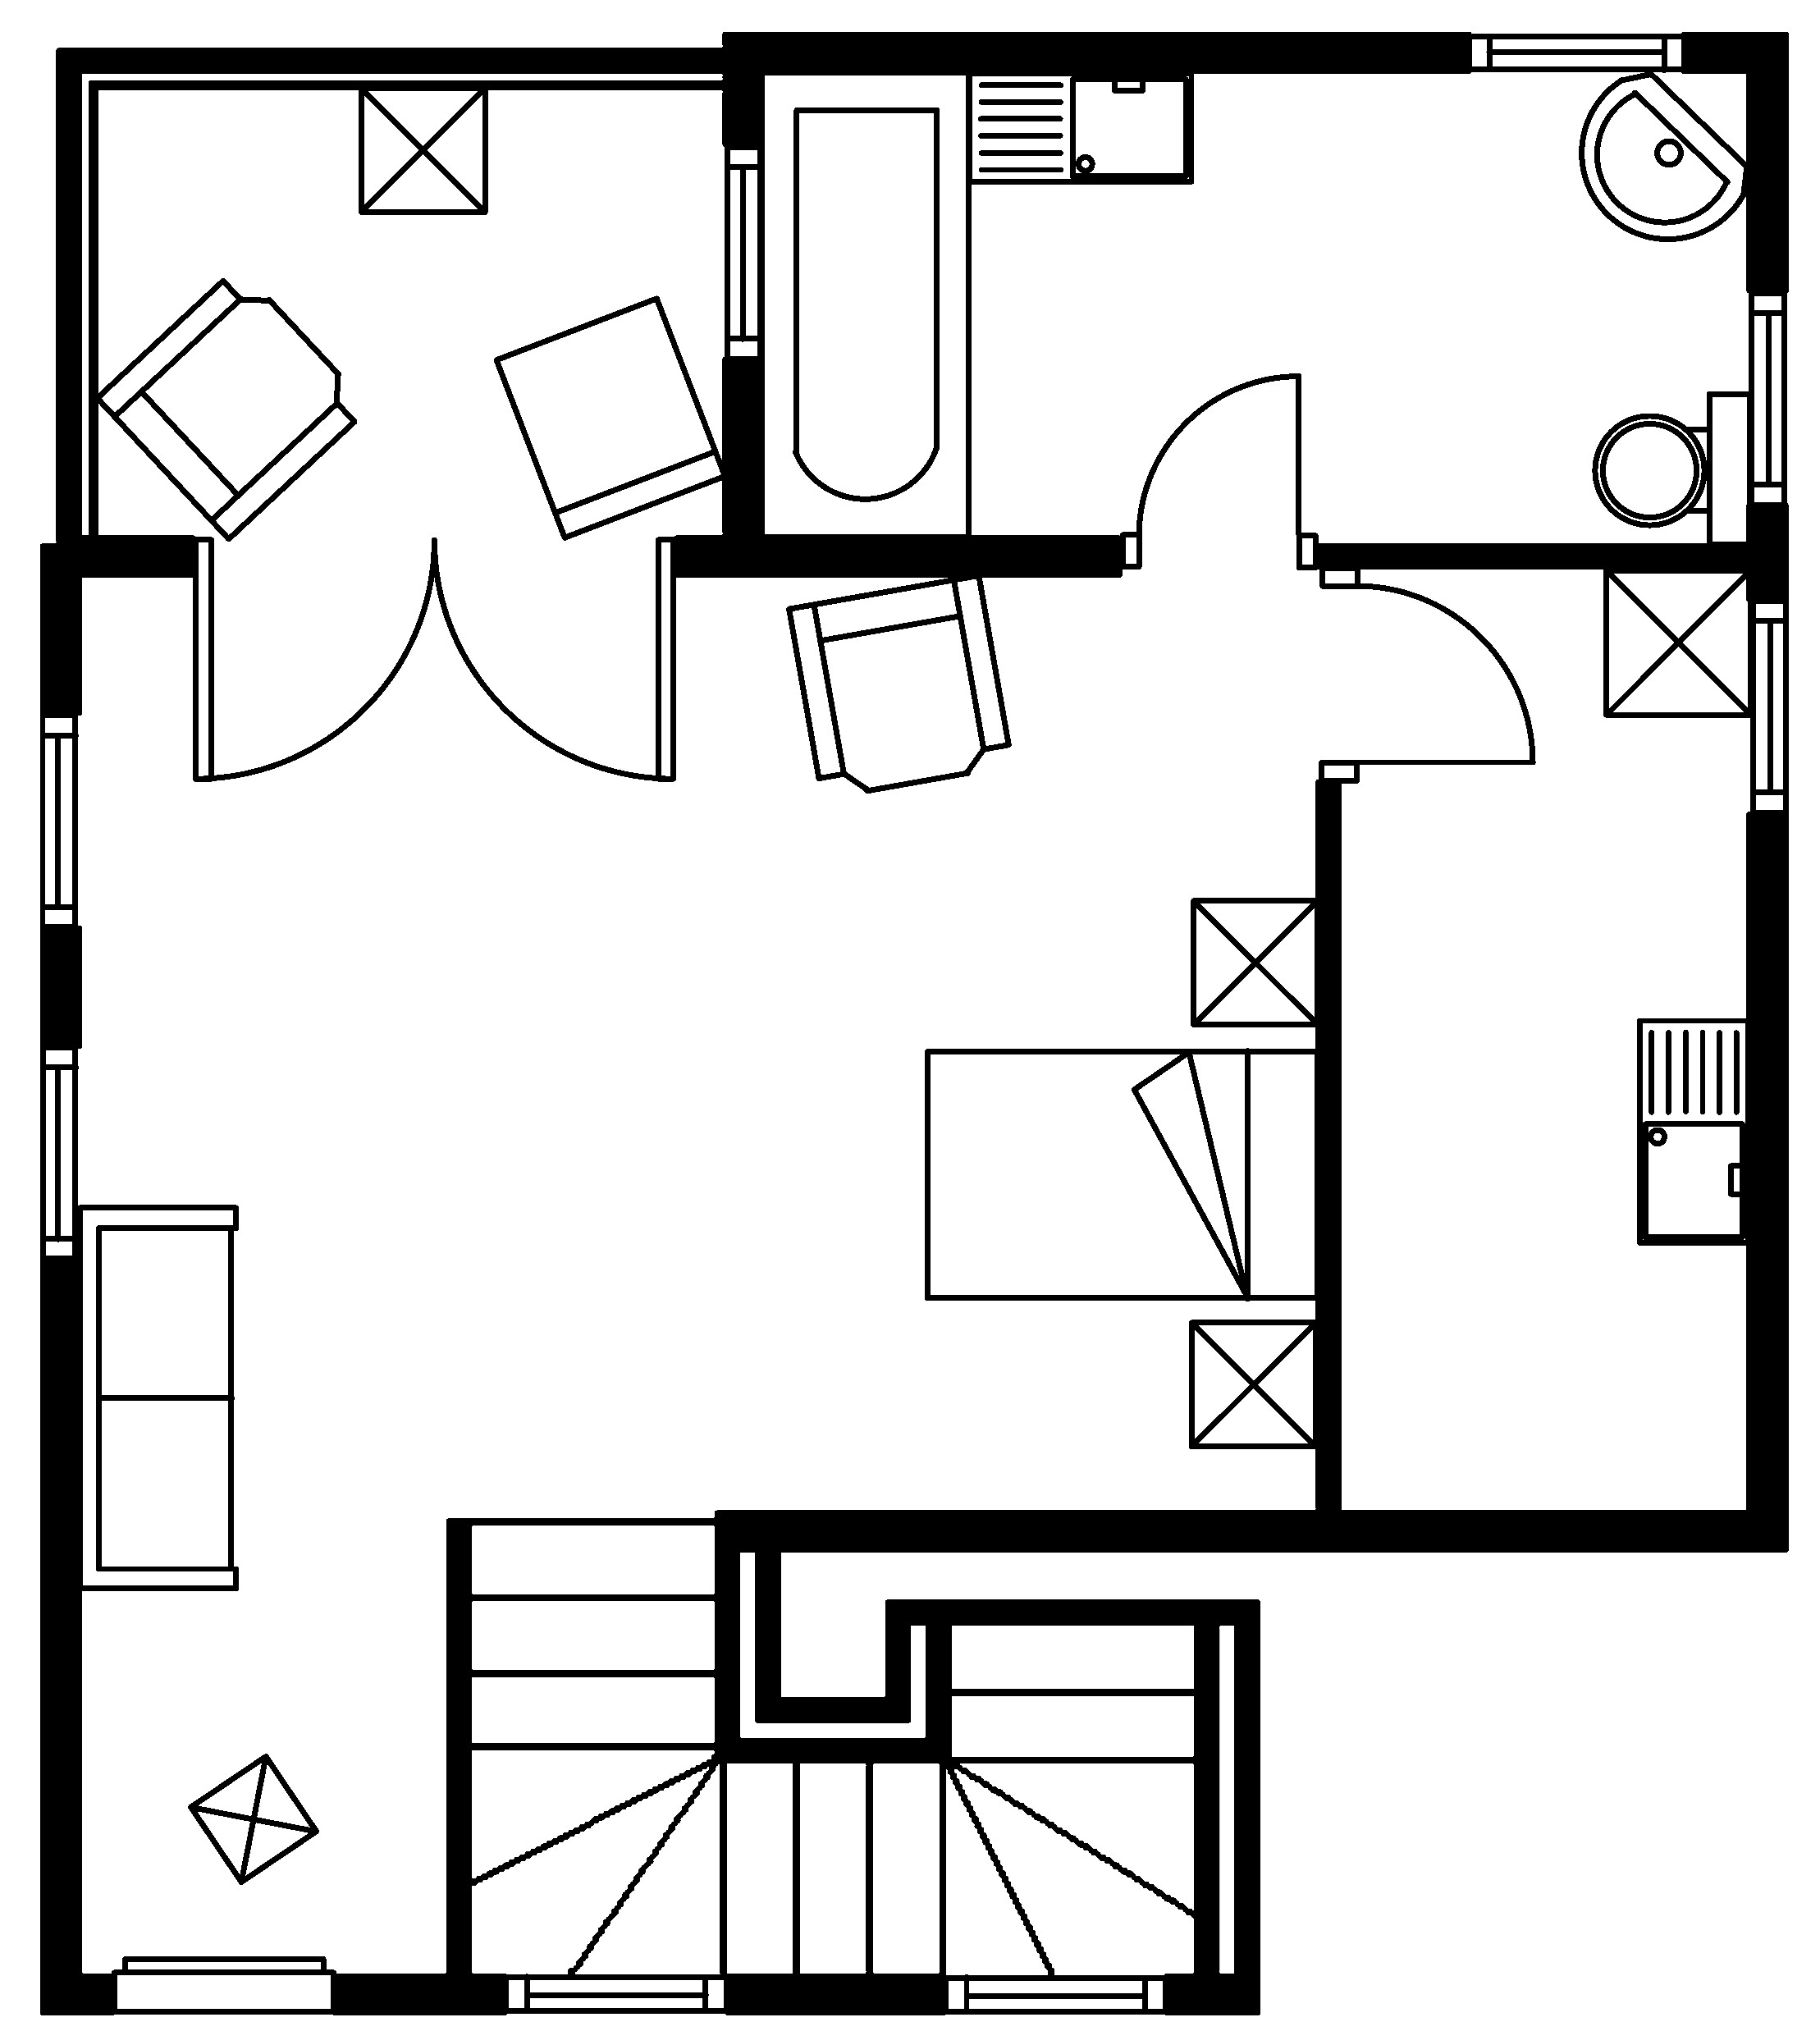armchair: (93, 276, 358, 543), (785, 571, 1012, 794)
bed: (922, 1047, 1321, 1302)
coffee_table: (1602, 566, 1753, 719), (186, 1752, 320, 1885), (1186, 1318, 1319, 1449), (1189, 896, 1321, 1028), (357, 84, 488, 214)
large_sink: (1592, 388, 1753, 548)
large_sofa: (76, 1203, 239, 1592)
sink: (1634, 1015, 1751, 1246), (964, 69, 1195, 184)
small_sink: (1578, 70, 1750, 241)
small_sofa: (492, 293, 727, 541)
tub: (757, 69, 971, 539)
